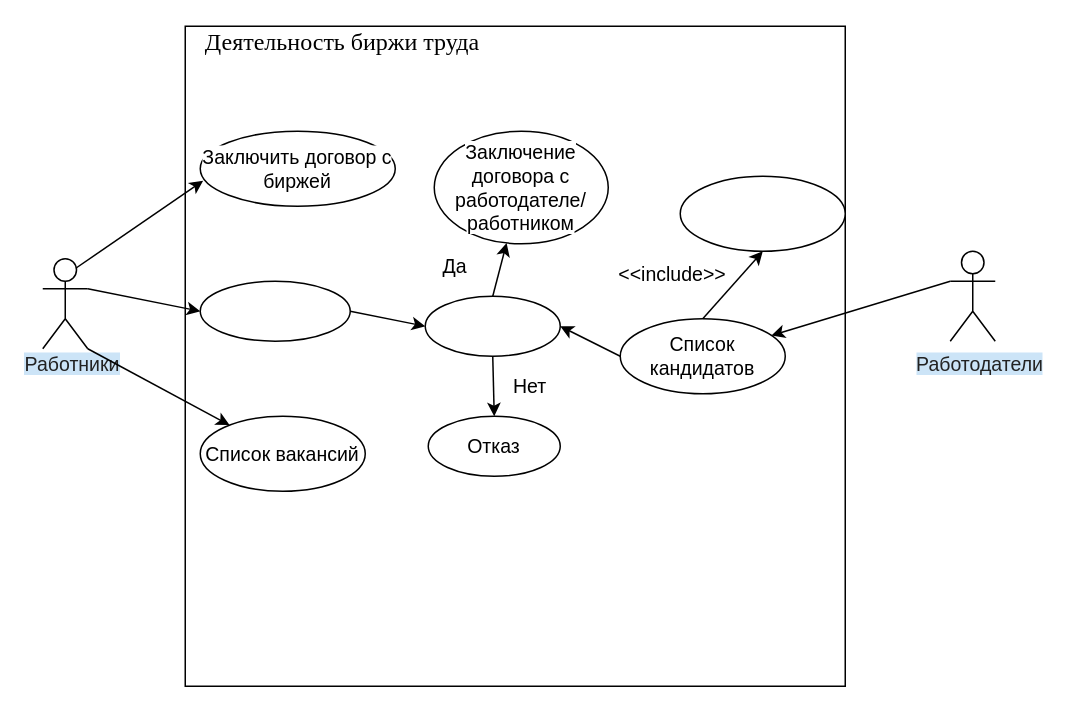
This 1070x713 diagram has some shape labels left out. Here are the shapes that lost their labels. From the top down, the centre of each, then its label:
point (762, 213): Данные по кандидатом
point (274, 310): Встать на учёт
point (492, 325): Направление
